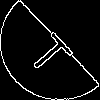T: (24, 25, 81, 78)
